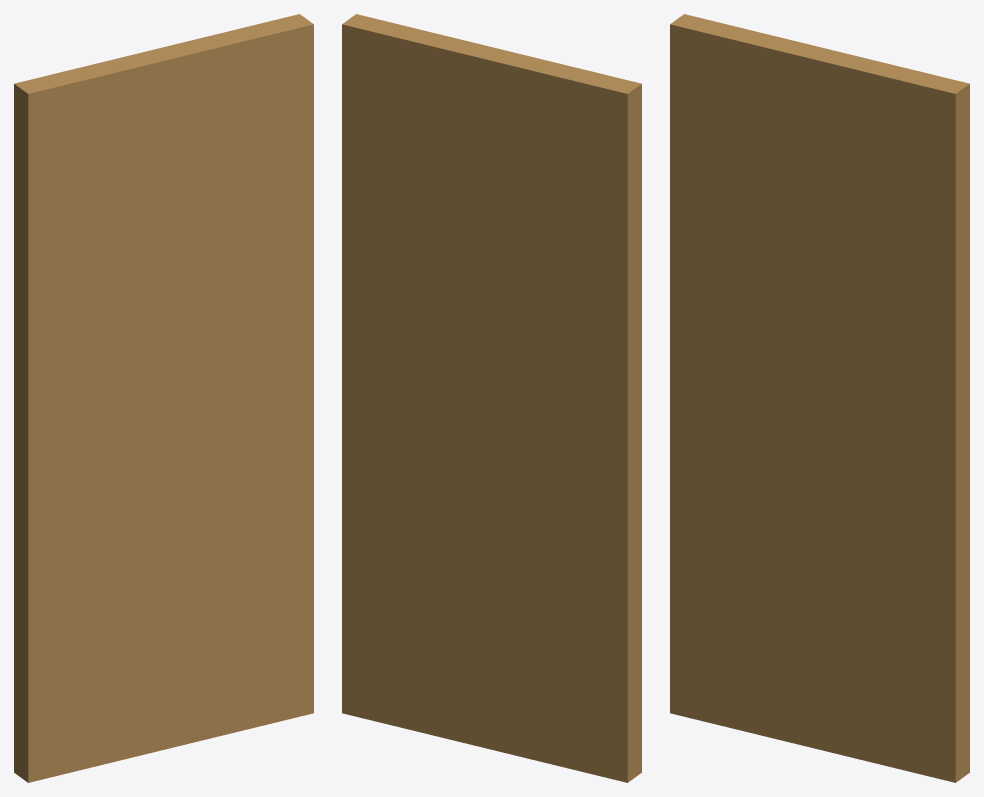
The picture shows the model from 3 angles, left to right: view 1: azimuth 30°, elevation 25°; view 2: azimuth 150°, elevation 25°; view 3: azimuth 330°, elevation 25°; orthographic projection.
Visible parts, largest first — view 1: FF-W216; view 2: FF-W216; view 3: FF-W216.
Part boxes in pixels (x1=…): FF-W216: x1=14, y1=14, x2=313, y2=782; FF-W216: x1=342, y1=14, x2=641, y2=782; FF-W216: x1=670, y1=14, x2=969, y2=782.
Size of the model in its own units: 1.05 by 2.42 by 0.09.
